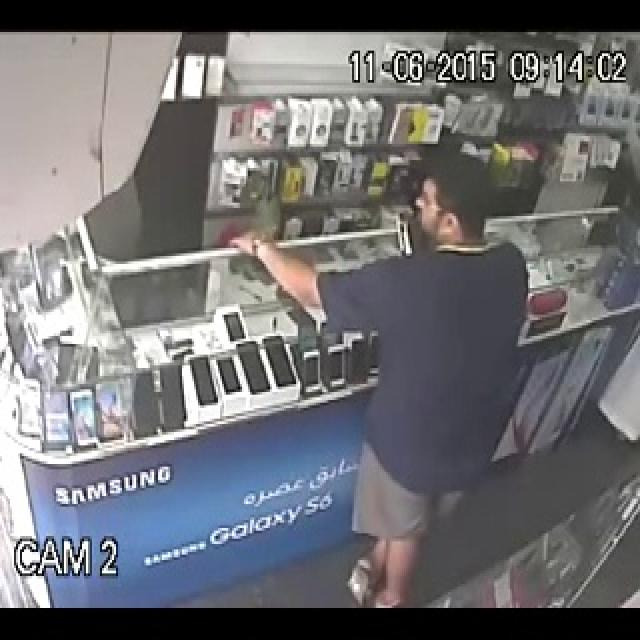shoplifting: (229, 148, 531, 604)
